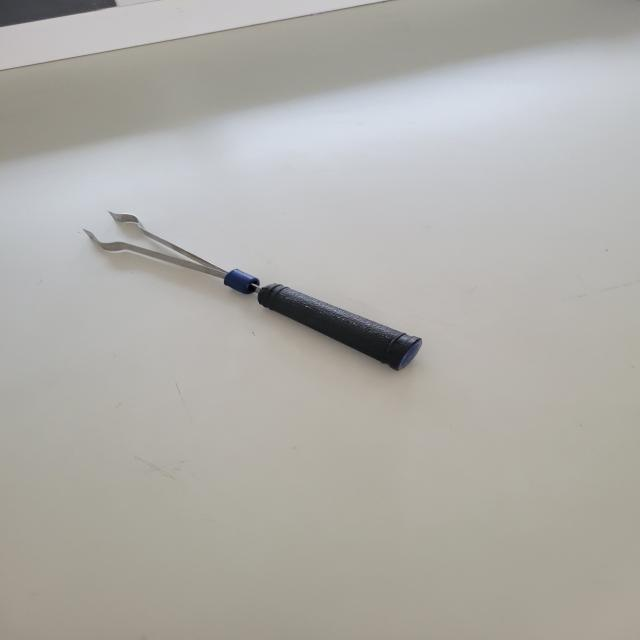TestTube_Holder: (54, 180, 452, 389)
